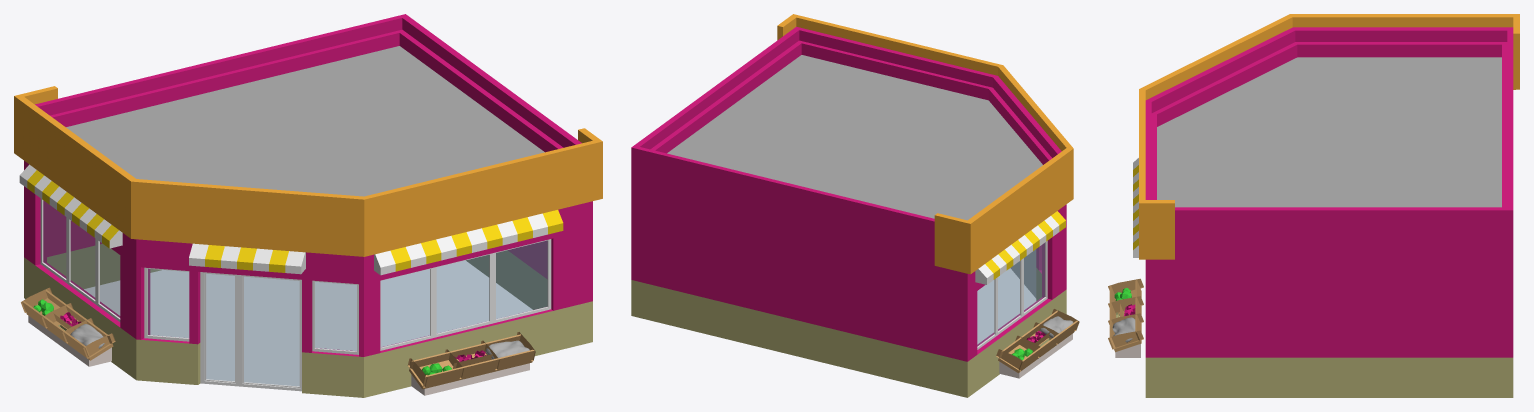
The model's file is Instacart_Project_Store.gltf.
3 renders of one model, left to right at view 1: azimuth 30°, elevation 25°; view 2: azimuth 150°, elevation 25°; view 3: azimuth 270°, elevation 25°, orthographic. The views are drawn at different scales.
Visible parts, largest first — view 1: Roof, House.2-Orange, House.1-Mat.5, House.1-Mat.1, Windows.1-Glass, Door-Glass, Windows.3-Glass, Cube.3 (×2), Windows.2-Glass, Windows.5-Glass, Door-white, 02-white (+11 smaller); view 2: House.1-Mat.5, Roof, House.1-Mat.1, House.2-Orange, Windows.3-Glass, Cube.3, 03-white, 03-Yellow, Windows.3-white, Door-white, Cube; view 3: House.1-Mat.5, Roof, House.1-Mat.1, House.2-Orange, Cube.3.
Part boxes in pixels (x1,y1,x2,y2): Roof: (66, 46, 544, 196); House.2-Orange: (14, 86, 602, 256); House.1-Mat.5: (24, 14, 592, 356); House.1-Mat.1: (24, 244, 592, 397); Windows.1-Glass: (381, 240, 547, 347); Door-Glass: (206, 274, 299, 386); Windows.3-Glass: (43, 200, 120, 317); Cube.3 (×2): (22, 289, 534, 389); Windows.2-Glass: (148, 268, 189, 338); Windows.5-Glass: (315, 282, 356, 351); Door-white: (200, 272, 301, 391); 02-white: (374, 213, 547, 275); House.1-Mat.5: (631, 26, 1066, 361); Roof: (667, 55, 1042, 220); House.1-Mat.1: (631, 268, 1066, 397); House.2-Orange: (777, 14, 1073, 274); Windows.3-Glass: (977, 243, 1044, 346); Cube.3: (998, 310, 1078, 373); 03-white: (975, 216, 1059, 284); 03-Yellow: (985, 211, 1065, 279); Windows.3-white: (977, 241, 1047, 349); Door-white: (1010, 249, 1036, 297); Cube: (999, 333, 1072, 378); House.1-Mat.5: (1145, 27, 1513, 357); Roof: (1157, 57, 1501, 207); House.1-Mat.1: (1145, 357, 1513, 397); House.2-Orange: (1139, 14, 1519, 259); Cube.3: (1109, 280, 1141, 352).
Bounding box in the file's own units: 188 × 85.76 × 162.
